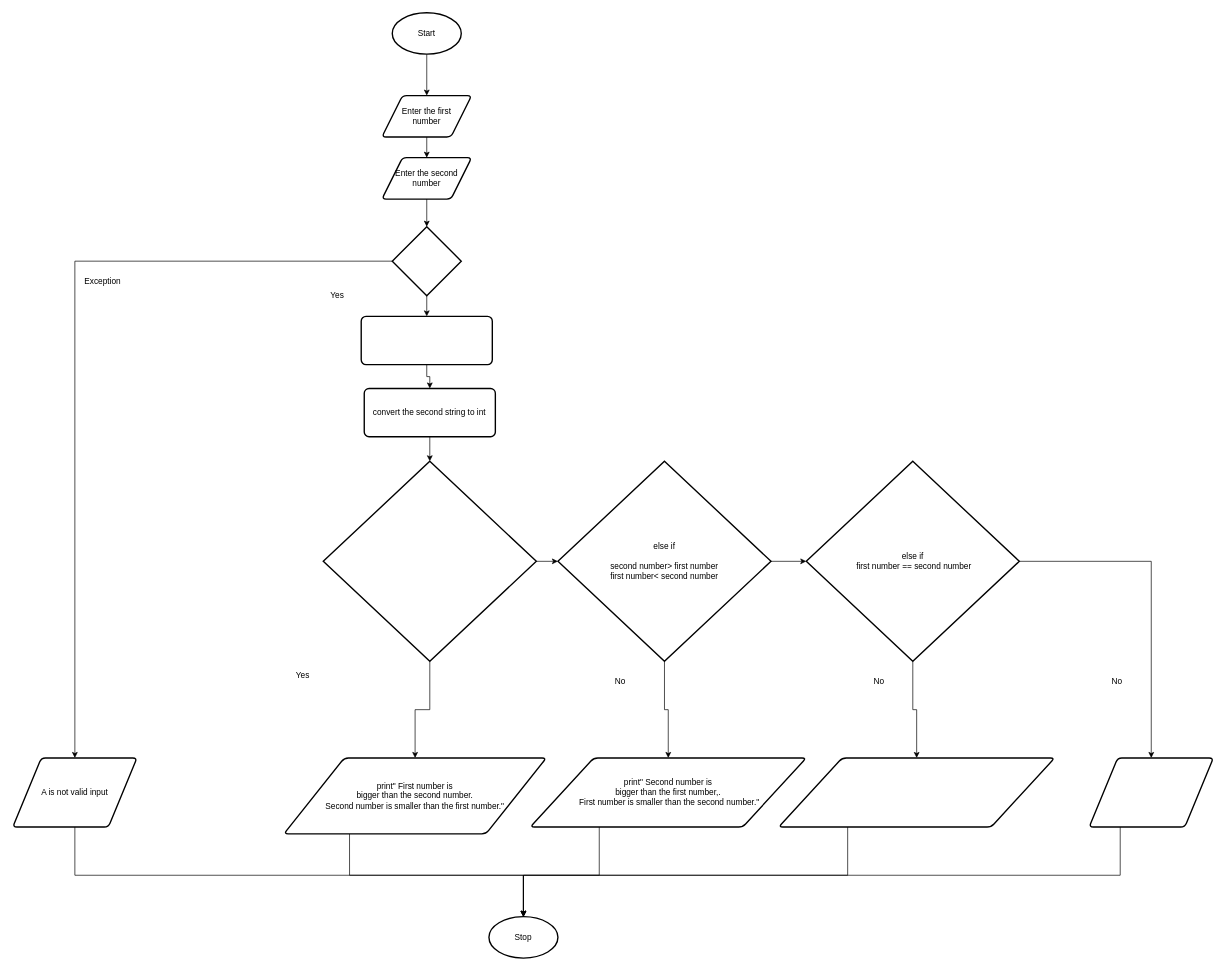
Image size: 1225x970. Some labels were removed from this diagram. The centre of each missing label's shape, as x and y in pixels:
convert first string to int: the point at 426,340
if first number> second number second number<first number: the point at 429,561
print" first number is equal to the second number.": the point at 916,792
print" No idea!": the point at 1151,792
try: the point at 426,261
